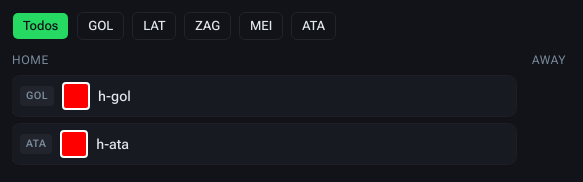
Test: DraftPool › filters by position chip
Click the button "GOL": (101, 26) [77,12,124,40]
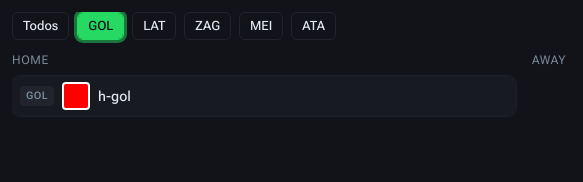
Expected: the text "h-gol" is shown, [98,88,131,104]
Result: the text "h-ata" is gone
